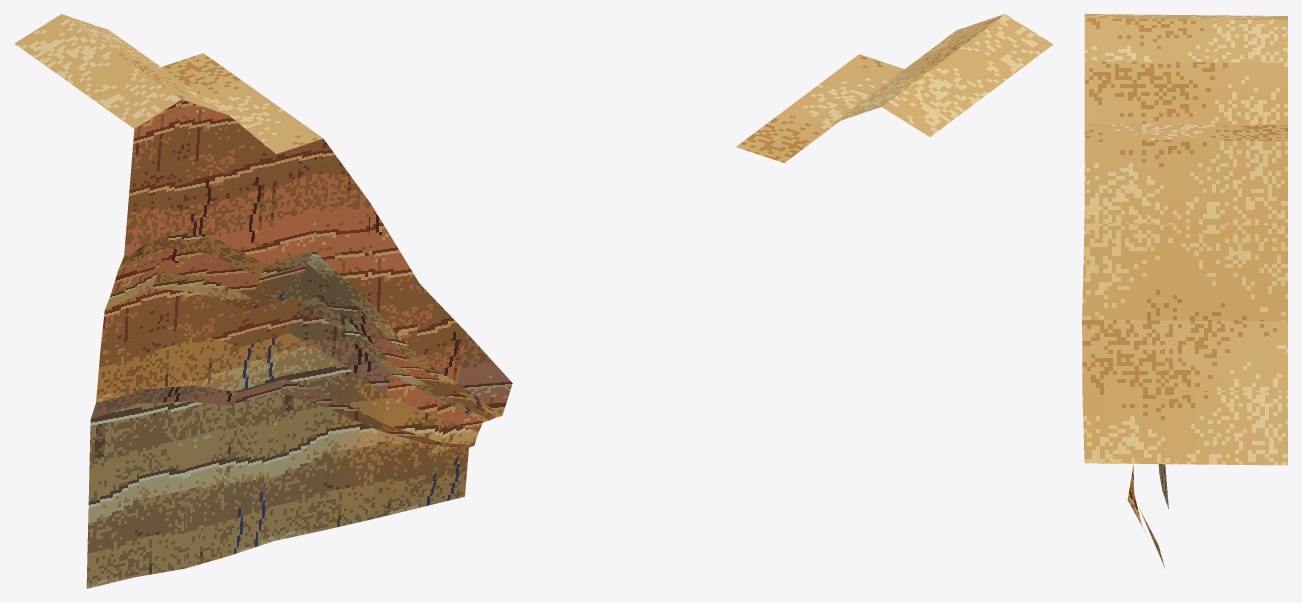
Rendered from wland.canyon_wall__end.glb.
3 views of the same model, side by side, from view 1: azimuth 30°, elevation 25°; view 2: azimuth 150°, elevation 25°; view 3: azimuth 270°, elevation 25° (orthographic). The views are drawn at different scales.
Visible parts, largest first — view 1: kit_shell_face, kit_shell_cap; view 2: kit_shell_cap; view 3: kit_shell_cap, kit_shell_face.
Part boxes in pixels (bbox=[...]): kit_shell_face: bbox=[86, 99, 512, 588]; kit_shell_cap: bbox=[14, 14, 323, 153]; kit_shell_cap: bbox=[736, 14, 1053, 162]; kit_shell_cap: bbox=[1082, 14, 1287, 465]; kit_shell_face: bbox=[1127, 464, 1168, 567].
Bounding box in the file's own units: 8 × 10.36 × 4.45.
Materials: 3 (3 with a texture image).
